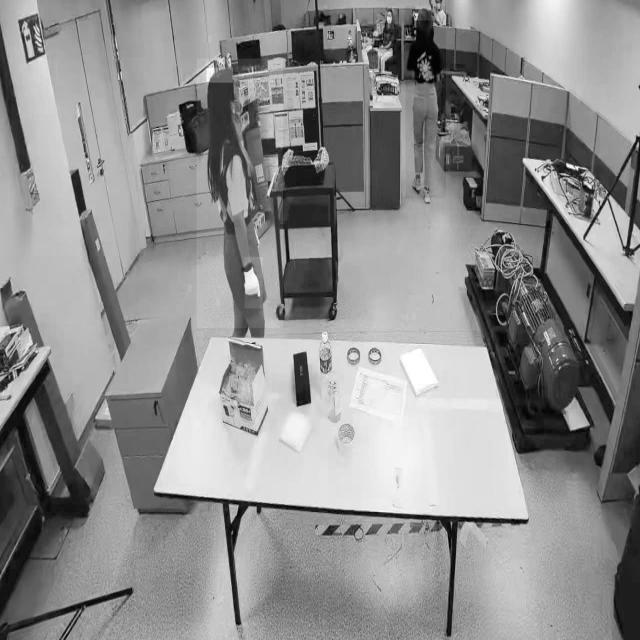face_mask: (235, 81, 248, 123), (386, 7, 394, 30)
hand_glove: (245, 257, 263, 309)
head_nohelmet: (206, 68, 234, 84), (416, 6, 432, 22), (386, 7, 392, 13)
person: (196, 59, 284, 329), (406, 6, 446, 199)
